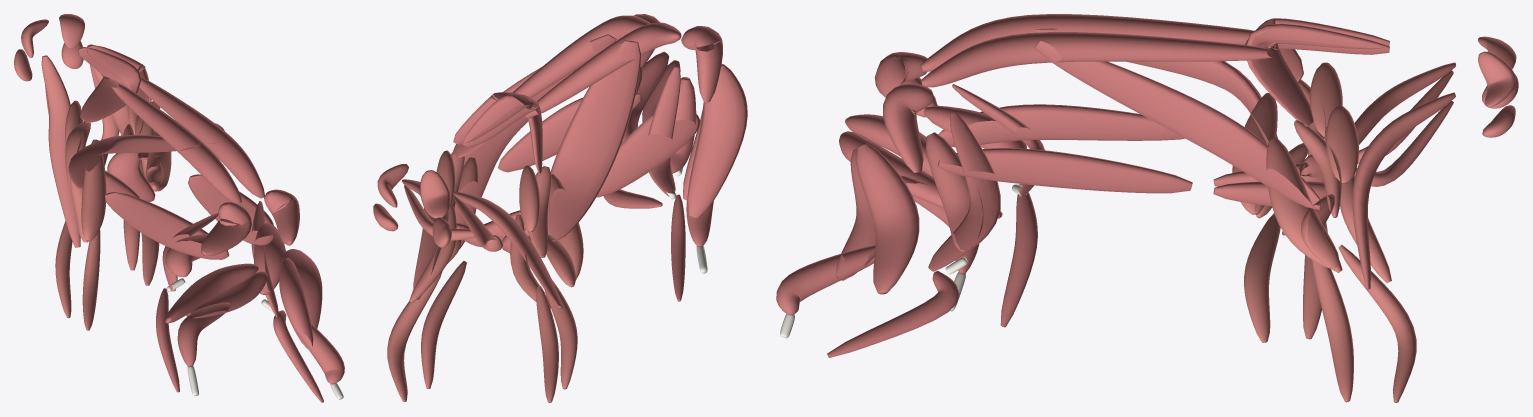
Rendered from felis-catus-muscles-tendons.glb.
3 views of the same model, side by side, from view 1: azimuth 30°, elevation 25°; view 2: azimuth 150°, elevation 25°; view 3: azimuth 270°, elevation 25° (orthographic). The views are drawn at different scales.
Parts seen in each view (by area): view 1: m_longissimus_sinister, m_longissimus_dexter, m_obliquus_externus_abdominis_sinister, m_brachiocephalicus_sinister, m_trapezius_sinister, m_latissimus_dorsi_sinister, m_triceps_brachii_sinister, m_biceps_femoris_sinister, m_gluteus_et_gluteofemoralis_sinister, m_semitendinosus_semimembranosus_dexter, m_obliquus_externus_abdominis_dexter, m_biceps_femoris_dexter (+27 smaller); view 2: m_latissimus_dorsi_sinister, m_biceps_femoris_sinister, m_obliquus_externus_abdominis_sinister, m_longissimus_sinister, m_longissimus_dexter, m_latissimus_dorsi_dexter, m_obliquus_externus_abdominis_dexter, m_brachiocephalicus_sinister, m_trapezius_sinister, m_sartorius_sinister, m_gluteus_et_gluteofemoralis_sinister, m_extensores_antebrachii_dexter (+27 smaller); view 3: m_latissimus_dorsi_dexter, m_longissimus_dexter, m_obliquus_externus_abdominis_dexter, m_obliquus_externus_abdominis_sinister, m_longissimus_sinister, m_biceps_femoris_dexter, m_trapezius_dexter, m_sartorius_dexter, m_triceps_brachii_dexter, m_brachiocephalicus_dexter, m_flexores_antebrachii_dexter, m_gluteus_et_gluteofemoralis_dexter (+27 smaller).
Boxes of the visible parts, box(x1,y1,x2,y2) form: m_longissimus_sinister: box(111, 83, 241, 203); m_longissimus_dexter: box(139, 77, 264, 198); m_obliquus_externus_abdominis_sinister: box(104, 192, 229, 259); m_brachiocephalicus_sinister: box(41, 55, 80, 247); m_trapezius_sinister: box(78, 47, 141, 123); m_latissimus_dorsi_sinister: box(68, 134, 200, 189); m_triceps_brachii_sinister: box(70, 139, 106, 242); m_biceps_femoris_sinister: box(165, 263, 258, 323); m_gluteus_et_gluteofemoralis_sinister: box(201, 202, 251, 255); m_semitendinosus_semimembranosus_dexter: box(279, 258, 313, 348); m_obliquus_externus_abdominis_dexter: box(188, 174, 274, 245); m_biceps_femoris_dexter: box(281, 249, 322, 328); m_latissimus_dorsi_sinister: box(547, 40, 640, 241); m_biceps_femoris_sinister: box(687, 64, 747, 218); m_obliquus_externus_abdominis_sinister: box(596, 114, 700, 197); m_longissimus_sinister: box(525, 22, 681, 117); m_longissimus_dexter: box(513, 15, 650, 97); m_latissimus_dorsi_dexter: box(453, 34, 616, 228); m_obliquus_externus_abdominis_dexter: box(498, 91, 641, 172); m_brachiocephalicus_sinister: box(453, 192, 562, 308); m_trapezius_sinister: box(463, 94, 542, 173); m_sartorius_sinister: box(648, 67, 680, 196); m_gluteus_et_gluteofemoralis_sinister: box(681, 26, 722, 102); m_extensores_antebrachii_dexter: box(387, 271, 442, 401); m_latissimus_dorsi_dexter: box(1034, 40, 1321, 209); m_longissimus_dexter: box(920, 32, 1271, 87); m_obliquus_externus_abdominis_dexter: box(937, 148, 1192, 193); m_obliquus_externus_abdominis_sinister: box(938, 104, 1184, 147); m_longissimus_sinister: box(920, 14, 1254, 71); m_biceps_femoris_dexter: box(855, 143, 919, 294); m_trapezius_dexter: box(1246, 23, 1389, 126); m_sartorius_dexter: box(928, 112, 1000, 271); m_triceps_brachii_dexter: box(1266, 138, 1342, 272); m_brachiocephalicus_dexter: box(1352, 92, 1455, 289); m_flexores_antebrachii_dexter: box(1311, 259, 1353, 402); m_gluteus_et_gluteofemoralis_dexter: box(883, 83, 934, 172).
Bounding box in the file's own units: 0.1288 × 0.2293 × 0.4512.
